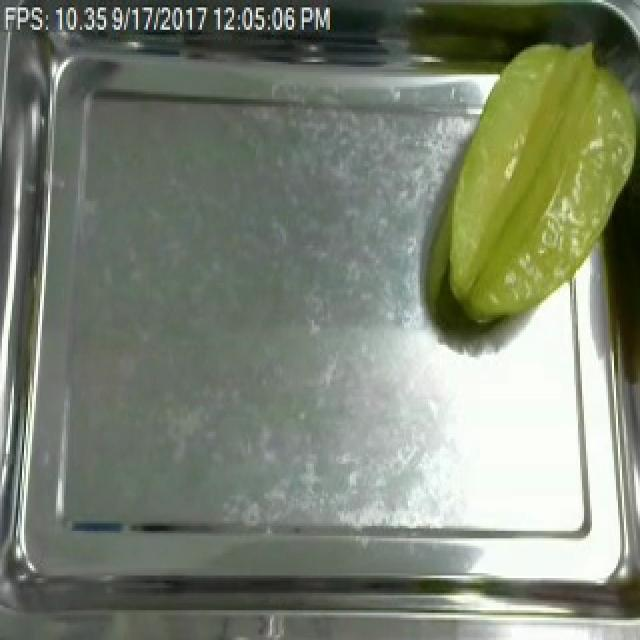fruit: (432, 32, 640, 338)
